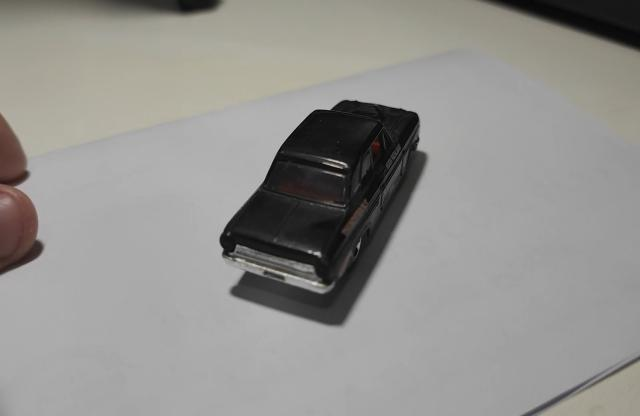01_FORD: (218, 100, 428, 294)
